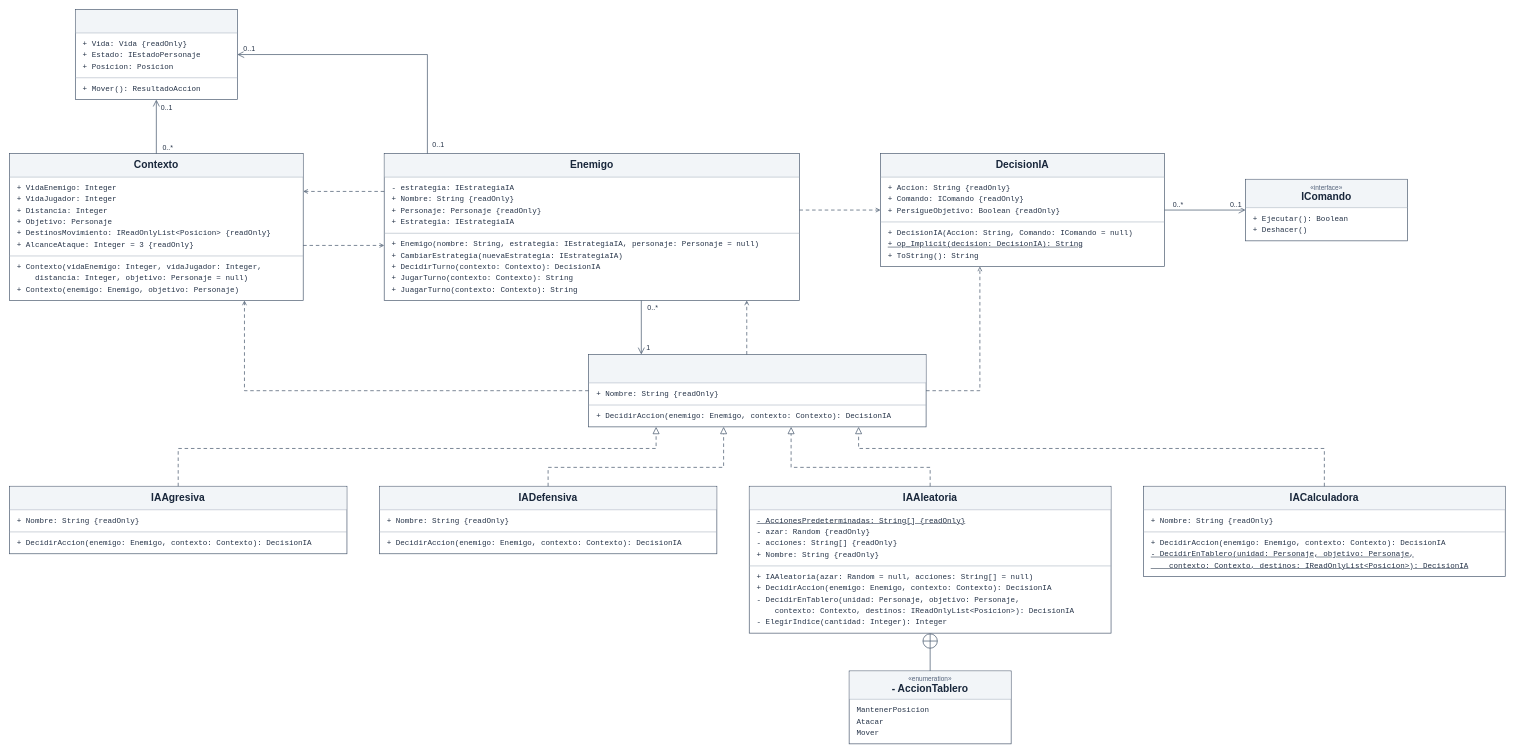
This 1515x754 diagram has some shape labels left out. The shapes that lost their labels are listed below. From the top down, each one's centre as x and y in pixels, then its label:
At point 156,21: "Personaje".
At point 757,368: "«interface» IEstrategiaIA".
